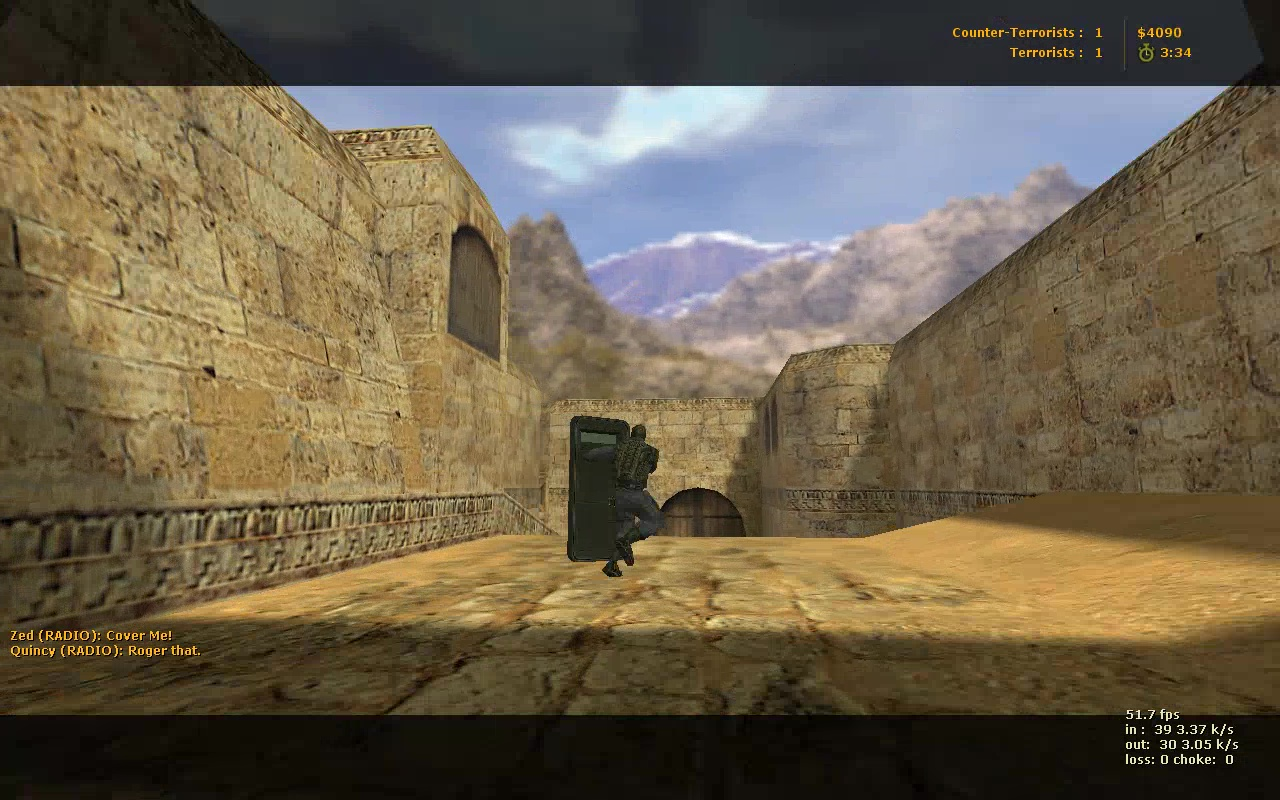ct: (571, 414, 663, 576)
